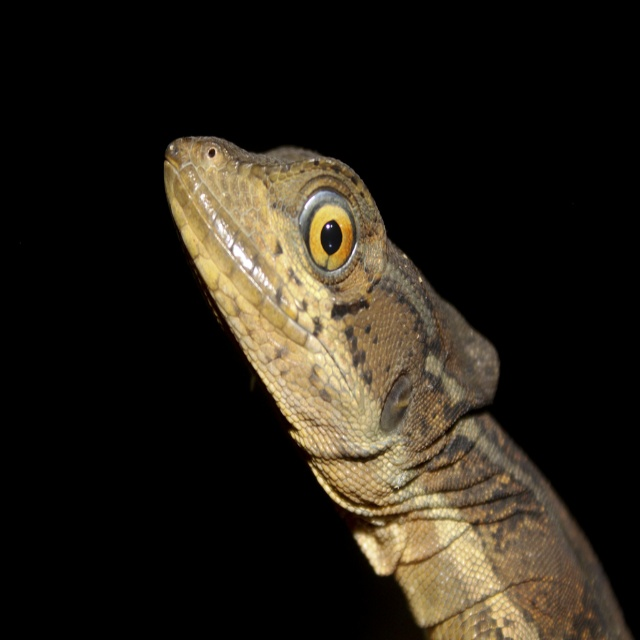Lizard: (166, 109, 636, 640)
